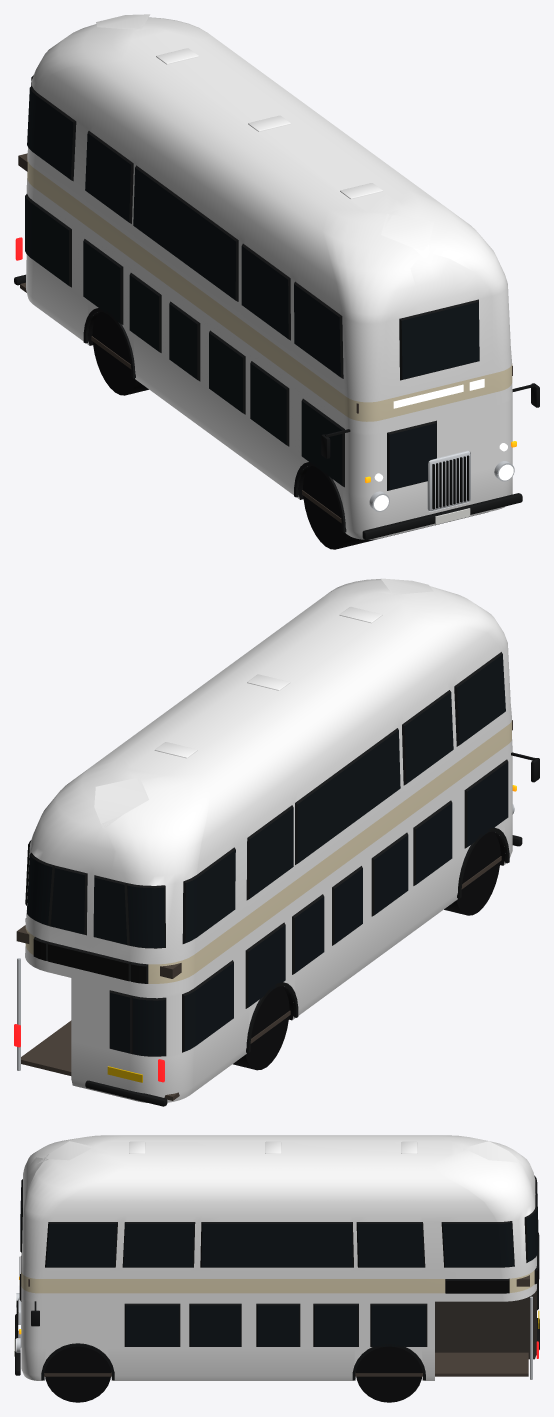
The model's file is bus.glb.
The picture shows the model from 3 angles, top to bottom: view 1: azimuth 30°, elevation 25°; view 2: azimuth 150°, elevation 25°; view 3: azimuth 270°, elevation 25°; orthographic projection. The views are drawn at different scales.
Visible parts, largest first — view 1: bus; view 2: bus; view 3: bus.
Part boxes in pixels (x1,y1,x2,y2): bus: (14,14,539,549); bus: (14,578,539,1106); bus: (14,1135,539,1402).
Bounding box in the file's own units: 3.22 × 4.44 × 9.28.
